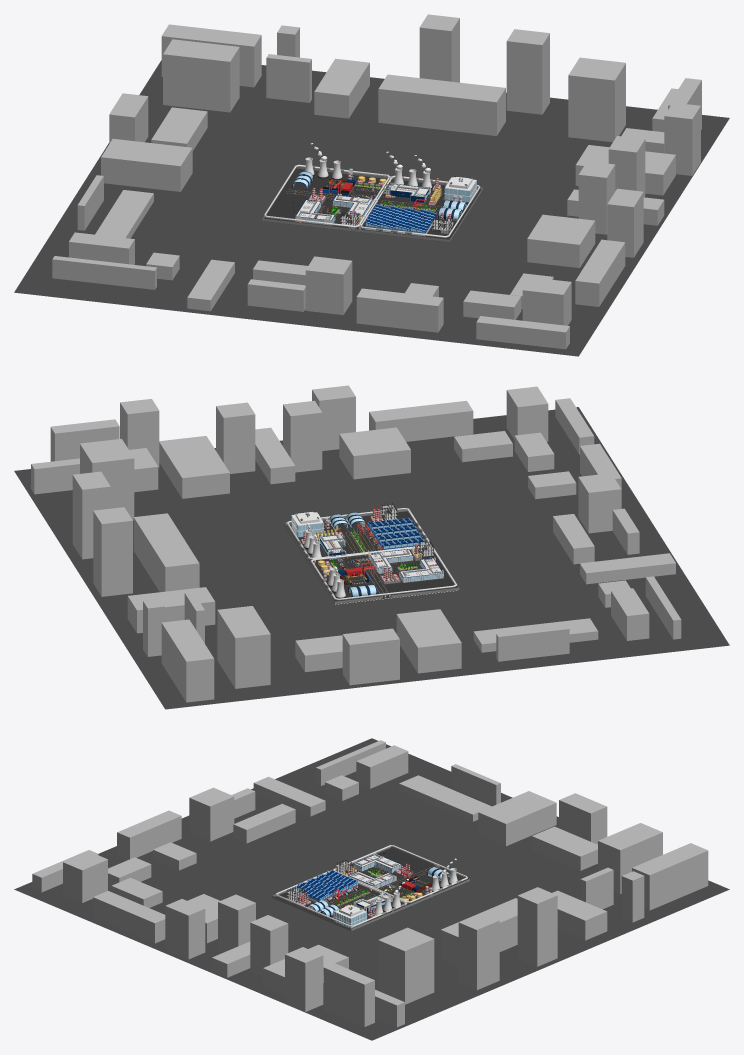
3 views of the same model, one above another, from view 1: azimuth 30°, elevation 25°; view 2: azimuth 150°, elevation 25°; view 3: azimuth 270°, elevation 25° (orthographic). The views are drawn at different scales.
Visible parts, largest first — view 1: background, env_industry_main, pipe2, Cube.093, building_office.002, building_production, building_office; view 2: background, env_industry_main, pipe2, building_office.002, building_office, Cube.093, building_production; view 3: background, env_industry_main, pipe2, building_office.002, Cube.093, building_office.
Boxes of the visible parts, x1=… form: background: x1=14, y1=14, x2=729, y2=356; env_industry_main: x1=262, y1=166, x2=482, y2=242; pipe2: x1=264, y1=164, x2=480, y2=237; Cube.093: x1=442, y1=175, x2=478, y2=202; building_office.002: x1=294, y1=199, x2=336, y2=225; building_production: x1=384, y1=182, x2=431, y2=203; building_office: x1=331, y1=193, x2=373, y2=220; background: x1=14, y1=385, x2=729, y2=709; env_industry_main: x1=284, y1=508, x2=459, y2=604; pipe2: x1=286, y1=508, x2=457, y2=600; building_office.002: x1=398, y1=557, x2=444, y2=583; building_office: x1=368, y1=549, x2=414, y2=574; Cube.093: x1=291, y1=510, x2=324, y2=537; building_production: x1=318, y1=533, x2=349, y2=559; background: x1=14, y1=738, x2=729, y2=1040; env_industry_main: x1=272, y1=846, x2=470, y2=931; pipe2: x1=276, y1=845, x2=467, y2=926; building_office.002: x1=353, y1=853, x2=401, y2=873; Cube.093: x1=333, y1=903, x2=368, y2=928; building_office: x1=348, y1=870, x2=398, y2=890.
Bounding box in the file's own units: 1287 × 128 × 1287.
Materials: 14 (12 with a texture image).
